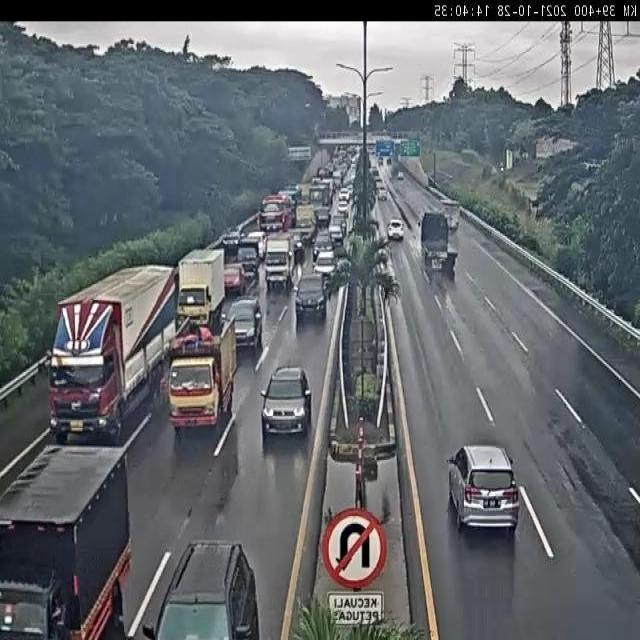Bus: (261, 193, 295, 232)
Car: (143, 539, 260, 638), (447, 444, 519, 532), (260, 364, 312, 440), (222, 296, 262, 352), (294, 274, 328, 324), (313, 247, 337, 277), (387, 219, 405, 241), (328, 222, 344, 244), (337, 198, 350, 216), (338, 188, 351, 204), (374, 178, 383, 195)
Truck: (0, 437, 135, 639), (46, 267, 178, 445), (164, 316, 239, 432), (176, 248, 228, 335), (421, 212, 455, 280), (263, 234, 295, 292), (238, 238, 260, 277), (294, 203, 316, 240)
